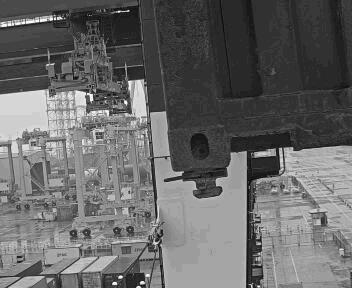twist_lock_1: (176, 169, 238, 201)
